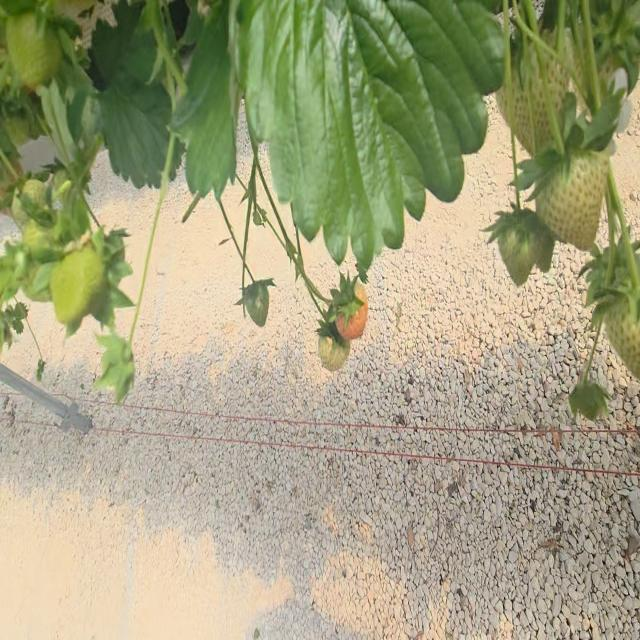Leaves: (245, 0, 503, 268), (92, 5, 171, 188), (172, 11, 236, 197)
Strawberries: (496, 59, 571, 155), (536, 151, 609, 249), (485, 200, 555, 285), (50, 244, 109, 325), (6, 14, 61, 89), (94, 330, 135, 402), (604, 302, 640, 379), (330, 277, 368, 342), (11, 180, 51, 230), (236, 279, 274, 327), (569, 379, 608, 419), (318, 334, 350, 371)
